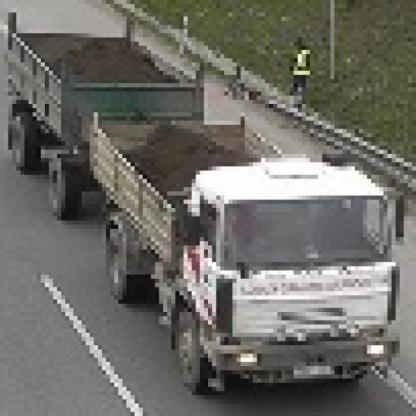truck: (1, 10, 401, 397)
